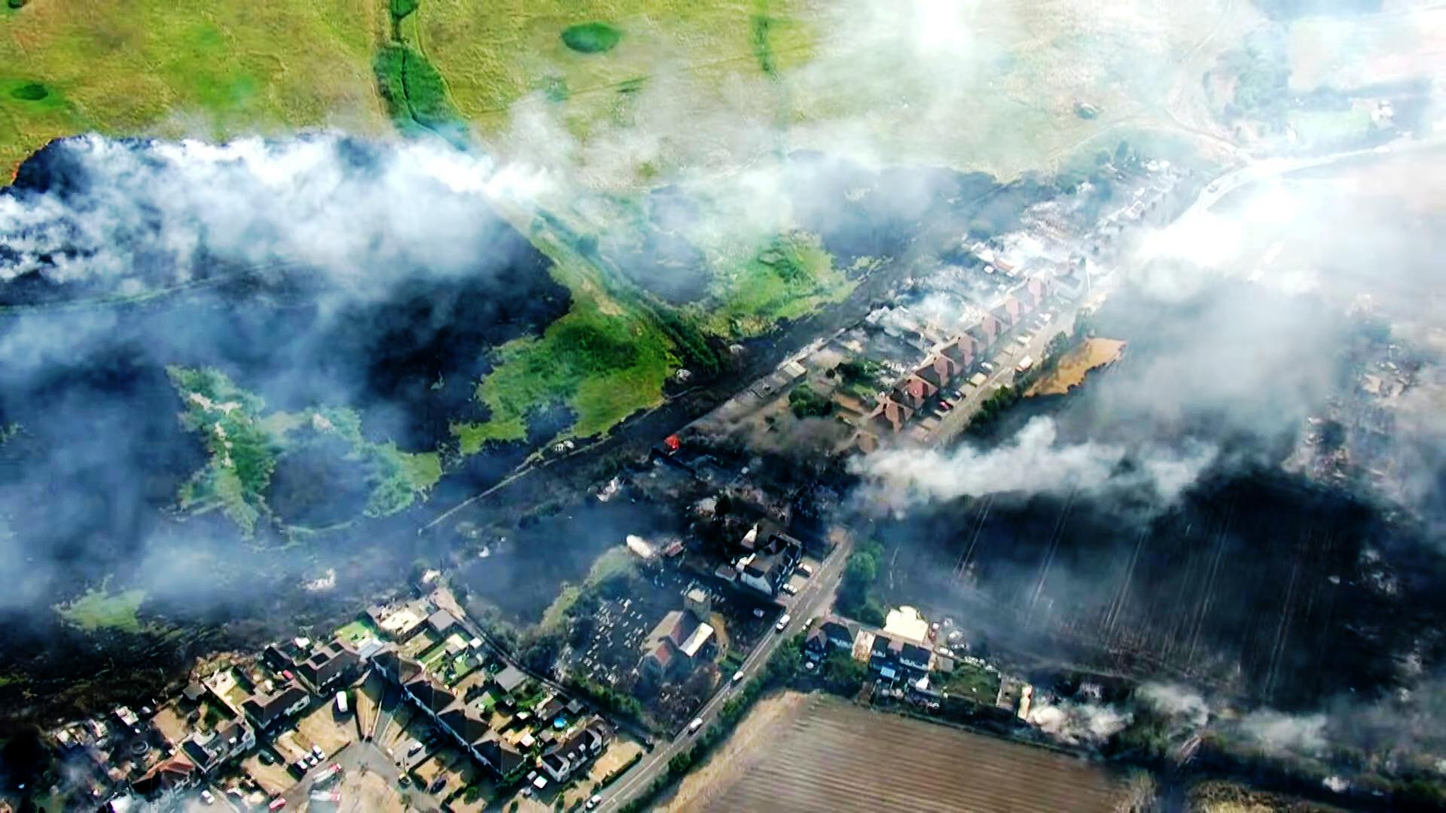smoke: (893, 439, 1085, 502)
